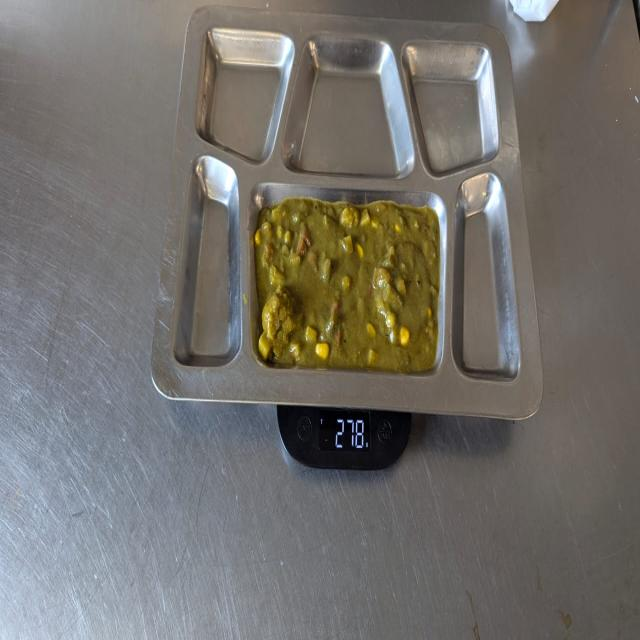Veg Miloni: (264, 212, 435, 366)
